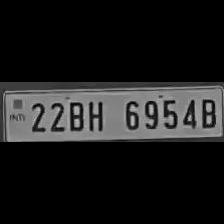2: (26, 99, 46, 133), (46, 99, 64, 134)
4: (178, 95, 198, 129)
5: (159, 96, 179, 130)
6: (119, 96, 141, 132)
9: (141, 96, 159, 130)
B: (196, 96, 218, 128), (65, 98, 85, 132)
H: (84, 97, 107, 133)
